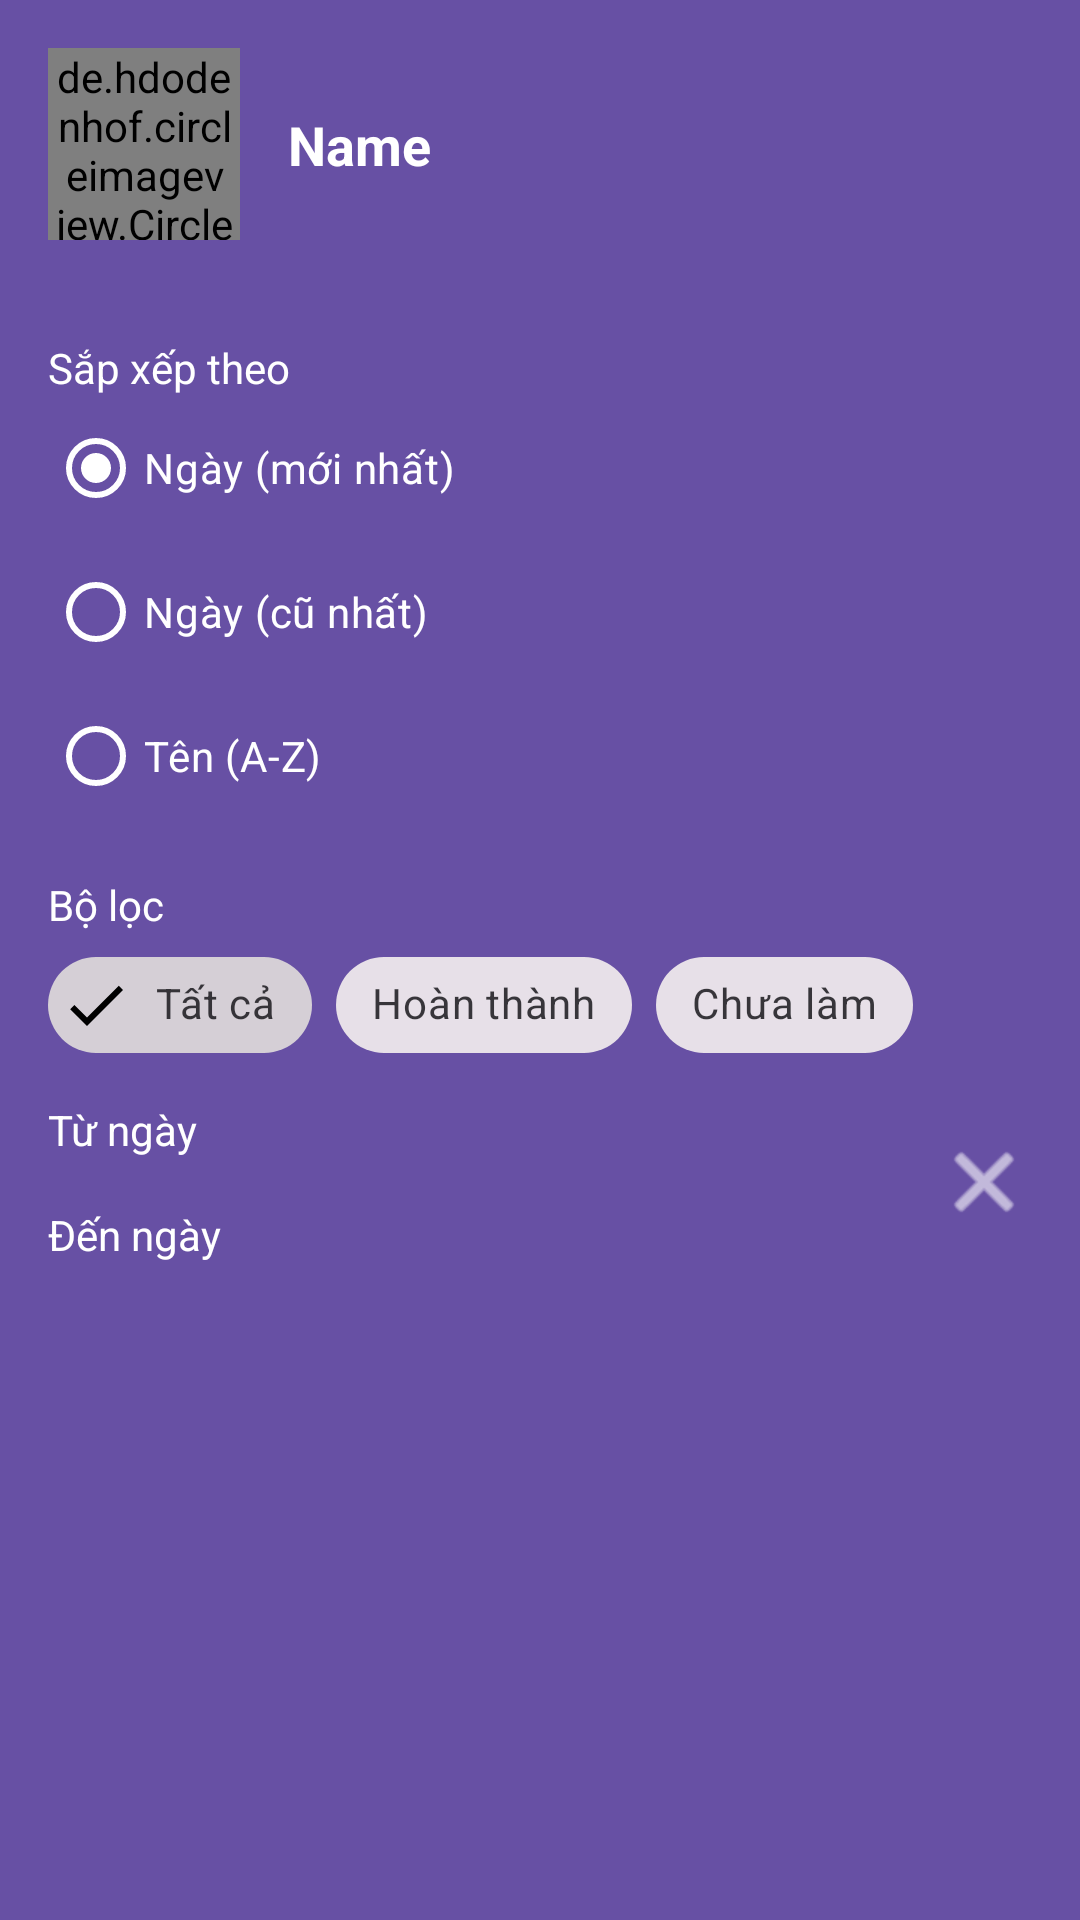

Where icons sit on this 1080×1920 app screen, as (x1, y1, x2, y2):
close clear cancel: (954, 1152, 1014, 1212)
